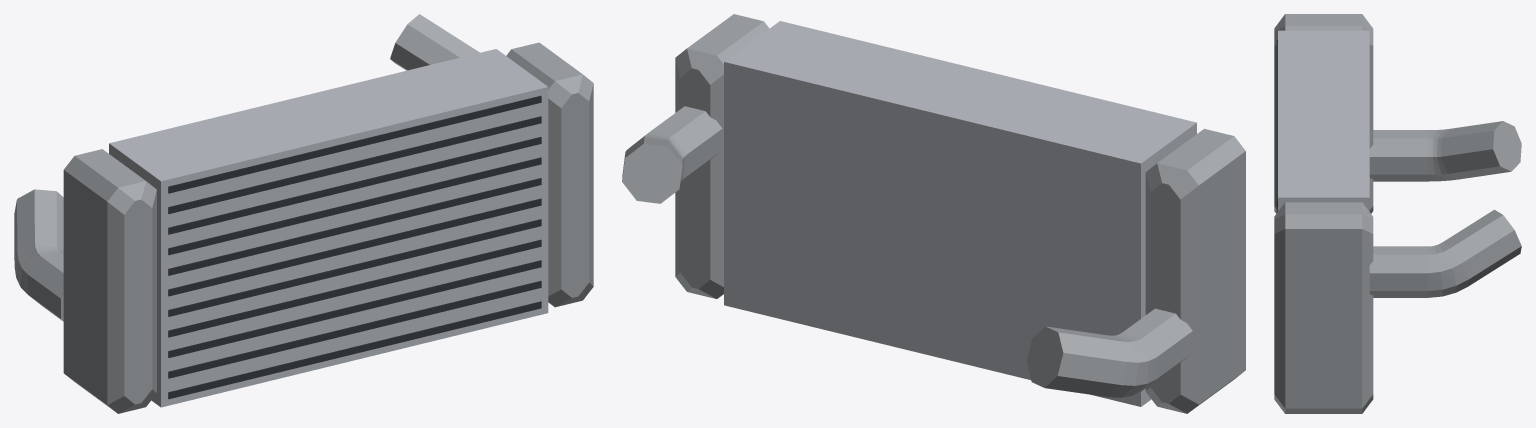
Rendered from strada_evo.glb.
3 views of the same model, side by side, from view 1: azimuth 30°, elevation 25°; view 2: azimuth 150°, elevation 25°; view 3: azimuth 270°, elevation 25° (orthographic). The views are drawn at different scales.
Parts seen in each view (by area): view 1: model; view 2: model; view 3: model.
Part boxes in pixels (box(x1,y1,x2,y2)): model: box(14, 14, 593, 413); model: box(622, 14, 1245, 413); model: box(1274, 14, 1521, 413).
Bounding box in the file's own units: 0.54 × 0.24 × 0.2696.
2 materials, 1 textured.
